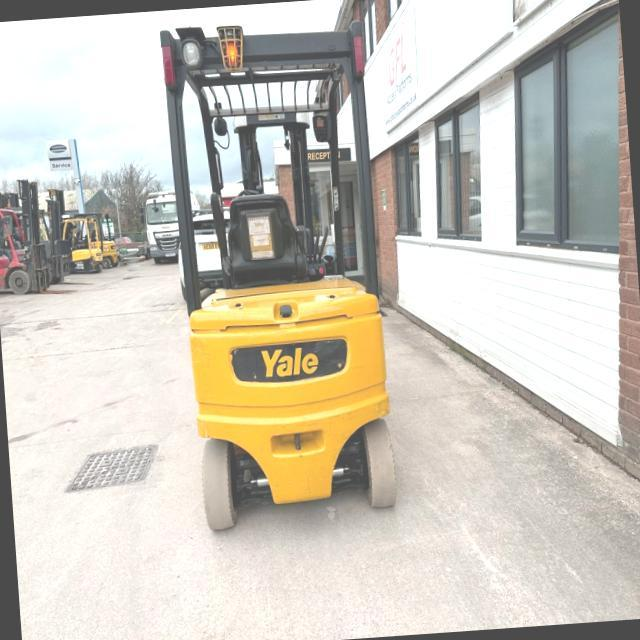forklift: (142, 2, 420, 561)
